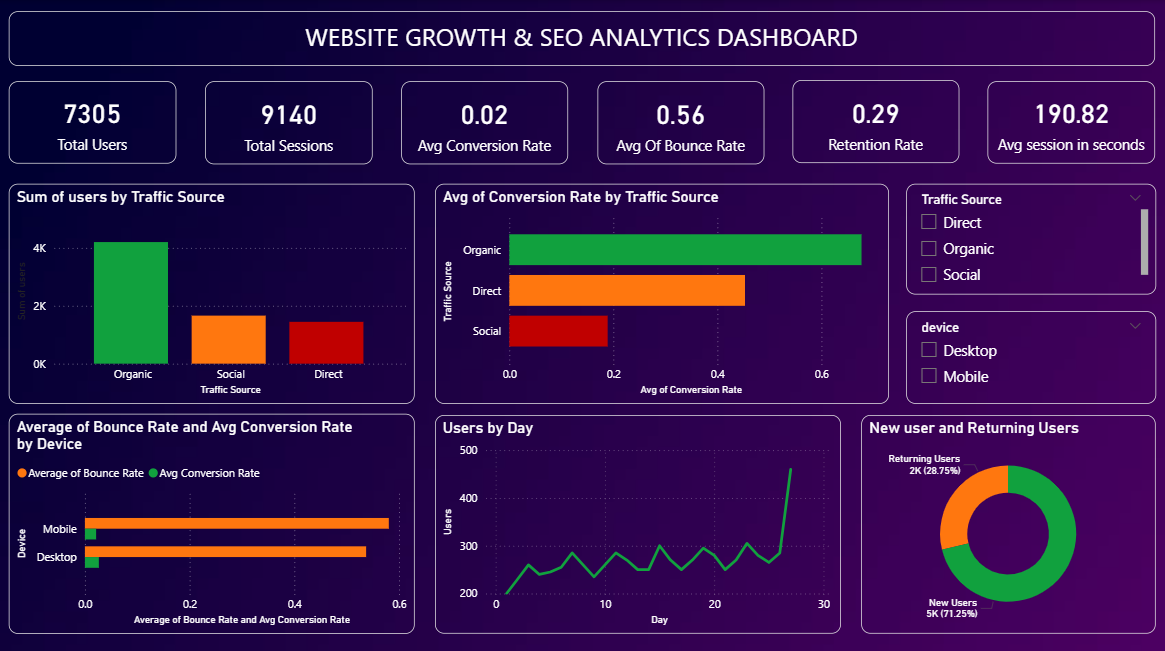

Layout of this report page (visuals, bound fields, positions):
{"tool":"powerbi","page":{"name":"Page 1","canvas":[1280,720],"ordinal":0},"visuals":[{"type":"textbox","title":"WEBSITE TRAFFIC & GROWTH ANALYTICS","box":[9.6,12.3,1258.3,60.4],"z":0},{"type":"card","fields":{"Values":["seoproject.total_users"]},"box":[9.6,88.6,183.9,90.6],"z":1000},{"type":"card","fields":{"Values":["Sum(seoproject.sessions)"]},"box":[225.1,88.6,184.3,91.4],"z":2000},{"type":"card","fields":{"Values":["seoproject.avg_conversion_rate"]},"box":[440.9,88.6,182.9,91.4],"z":3000},{"type":"card","fields":{"Values":["seoproject.retention_rate"]},"box":[869.8,87.1,182.9,91.4],"z":4000},{"type":"clusteredColumnChart","fields":{"Category":["seoproject.traffic_source"],"Y":["Sum(seoproject.users)"]},"box":[9.6,201.7,446,241.5],"z":5000},{"type":"clusteredBarChart","fields":{"Y":["Sum(seoproject.conversion_rate)"],"Category":["seoproject.traffic_source"]},"box":[477.1,201.4,498.6,241.4],"z":6000},{"type":"clusteredBarChart","fields":{"Category":["seoproject.device"],"Y":["Avg(seoproject.bounce_rate)","seoproject.avg_conversion_rate"]},"box":[10,454.3,445.7,241.4],"z":7000},{"type":"lineChart","fields":{"Category":["seoproject.date.Variation.Date Hierarchy.Day"],"Y":["Sum(seoproject.users)"]},"box":[477.1,455.7,445.7,240],"z":8000},{"type":"donutChart","title":"New user and Returning Users","fields":{"Y":["Sum(seoproject.new_users)","Sum(seoproject.returning_users)"]},"box":[945.7,455.7,322.9,240],"z":9000},{"type":"slicer","fields":{"Values":["seoproject.traffic_source"]},"box":[994.3,201.4,274.3,121.4],"z":10000},{"type":"slicer","fields":{"Values":["seoproject.device"]},"box":[994.3,341.4,274.3,101.4],"z":11000},{"type":"card","fields":{"Values":["Avg(seoproject.bounce_rate)"]},"box":[655.4,88.6,182.9,91.4],"z":12000},{"type":"card","fields":{"Values":["Avg(seoproject.avg_session_duration)"]},"box":[1084.3,88.6,184.3,90],"z":13000}]}

Visuals, with their boxes in screenshot pixels (x1, y1, x2, y2), scaled from the page's 1280x720 canvas onto the 1165x651 screenshot:
"WEBSITE TRAFFIC & GROWTH ANALYTICS" textbox: [9,11,1154,66]
card - seoproject.total_users: [9,80,176,162]
card - Sum(seoproject.sessions): [205,80,373,163]
card - seoproject.avg_conversion_rate: [401,80,568,163]
card - seoproject.retention_rate: [792,79,958,161]
clusteredColumnChart - seoproject.traffic_source x Sum(seoproject.users): [9,182,415,401]
clusteredBarChart - Sum(seoproject.conversion_rate) x seoproject.traffic_source: [434,182,888,400]
clusteredBarChart - seoproject.device x Avg(seoproject.bounce_rate): [9,411,415,629]
lineChart - seoproject.date.Variation.Date Hierarchy.Day x Sum(seoproject.users): [434,412,840,629]
"New user and Returning Users" donutChart: [861,412,1155,629]
slicer - seoproject.traffic_source: [905,182,1155,292]
slicer - seoproject.device: [905,309,1155,400]
card - Avg(seoproject.bounce_rate): [597,80,763,163]
card - Avg(seoproject.avg_session_duration): [987,80,1155,161]
